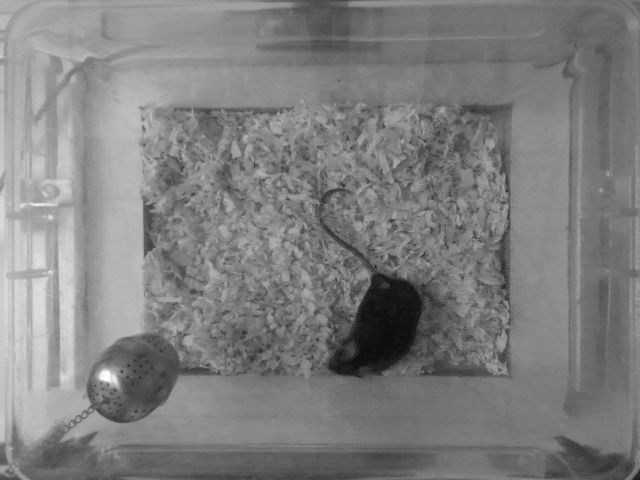mice: (316, 182, 424, 380)
